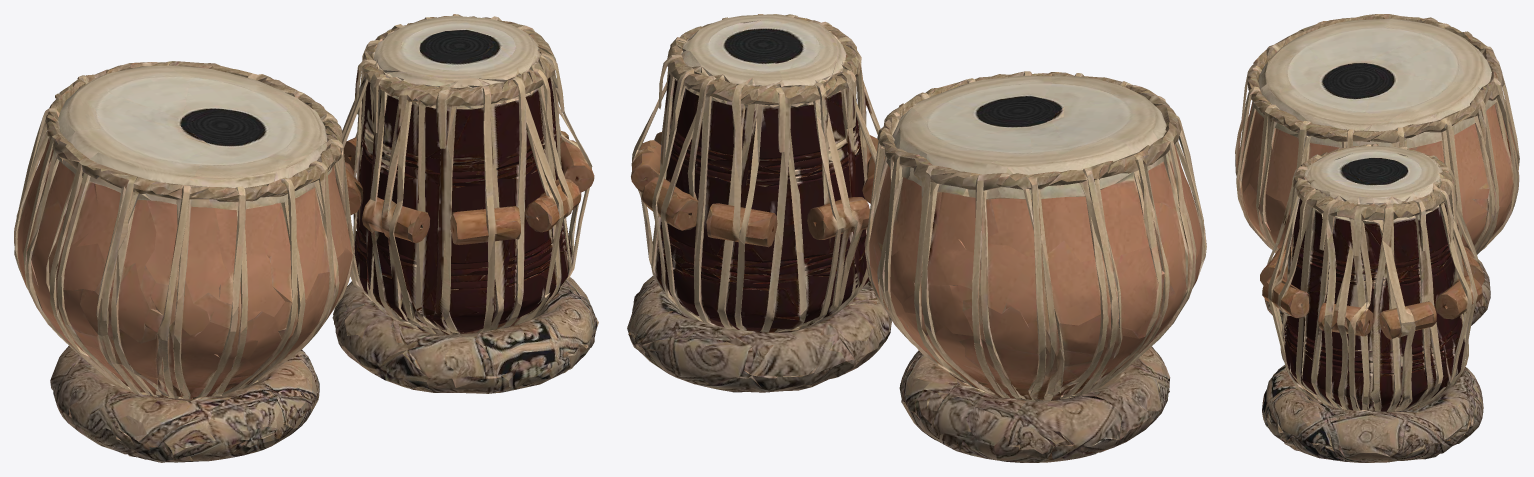
File: tabla.glb
3 renders of one model, left to right at view 1: azimuth 30°, elevation 25°; view 2: azimuth 150°, elevation 25°; view 3: azimuth 270°, elevation 25°, orthographic. The views are drawn at different scales.
Parts seen in each view (by area): view 1: placed; view 2: placed; view 3: placed.
Part boxes in pixels (box(x1,y1,x2,y2)): placed: box(14, 14, 598, 462); placed: box(627, 14, 1206, 462); placed: box(1235, 14, 1519, 462).
Size of the model in its own units: 0.62 by 0.3373 by 0.3382.
Materials: 1 (1 with a texture image).
